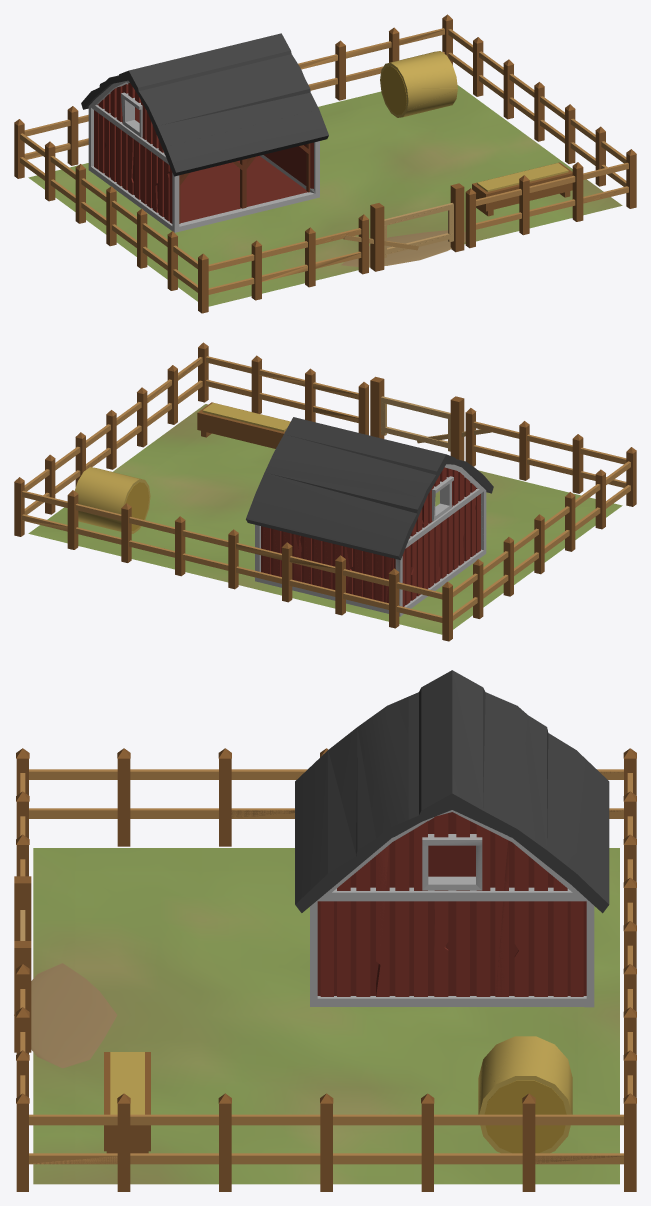
Rendered from cow_barn.glb.
The picture shows the model from 3 angles, top to bottom: view 1: azimuth 30°, elevation 25°; view 2: azimuth 150°, elevation 25°; view 3: azimuth 270°, elevation 25°; orthographic projection. The views are drawn at different scales.
Visible parts, largest first — view 1: home-cow_barn, home-cow_barn-far; view 2: home-cow_barn, home-cow_barn-far; view 3: home-cow_barn, home-cow_barn-far.
Boxes of the visible parts, bbox=[...] form: home-cow_barn: bbox=[14, 14, 636, 313]; home-cow_barn-far: bbox=[14, 17, 636, 312]; home-cow_barn: bbox=[14, 342, 636, 641]; home-cow_barn-far: bbox=[14, 347, 636, 641]; home-cow_barn: bbox=[14, 670, 636, 1191]; home-cow_barn-far: bbox=[15, 671, 636, 1190].
Size of the model in its own units: 7.93 by 2.3 by 5.95.
